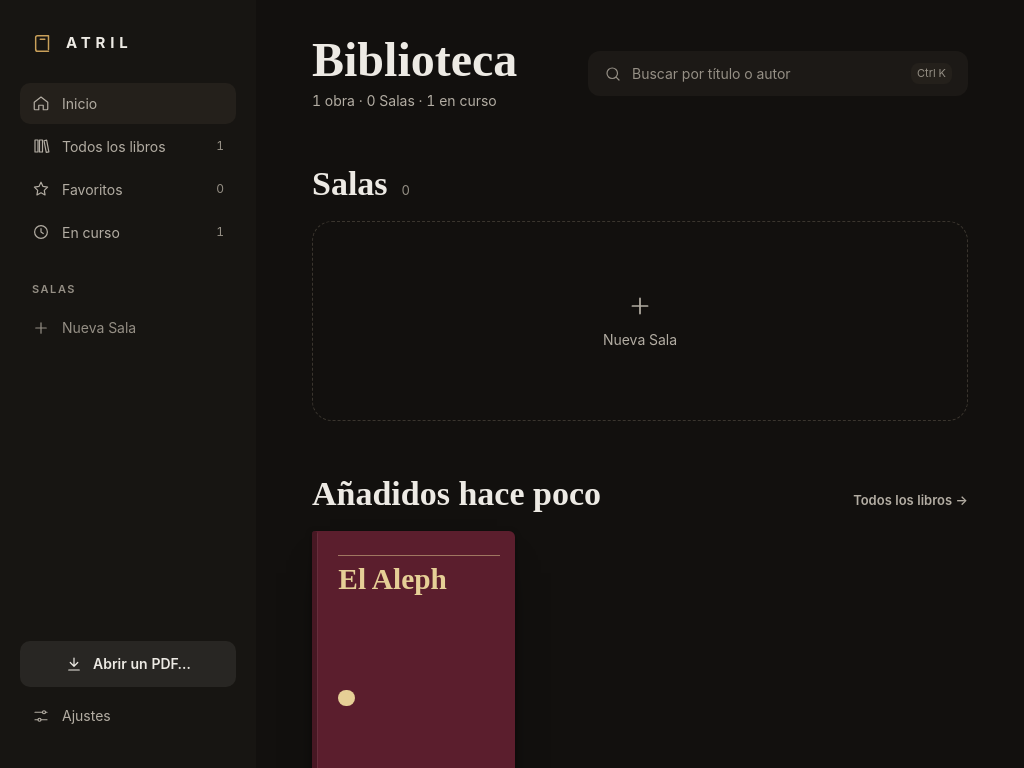
Scenario: lists with nothing to show › search without results names the search and clears it
The image size is (1024, 768).
Type "zzz" into the search field named "Buscar en la biblioteca".
click(766, 74); type("zzz")  # box [632, 63, 901, 84]
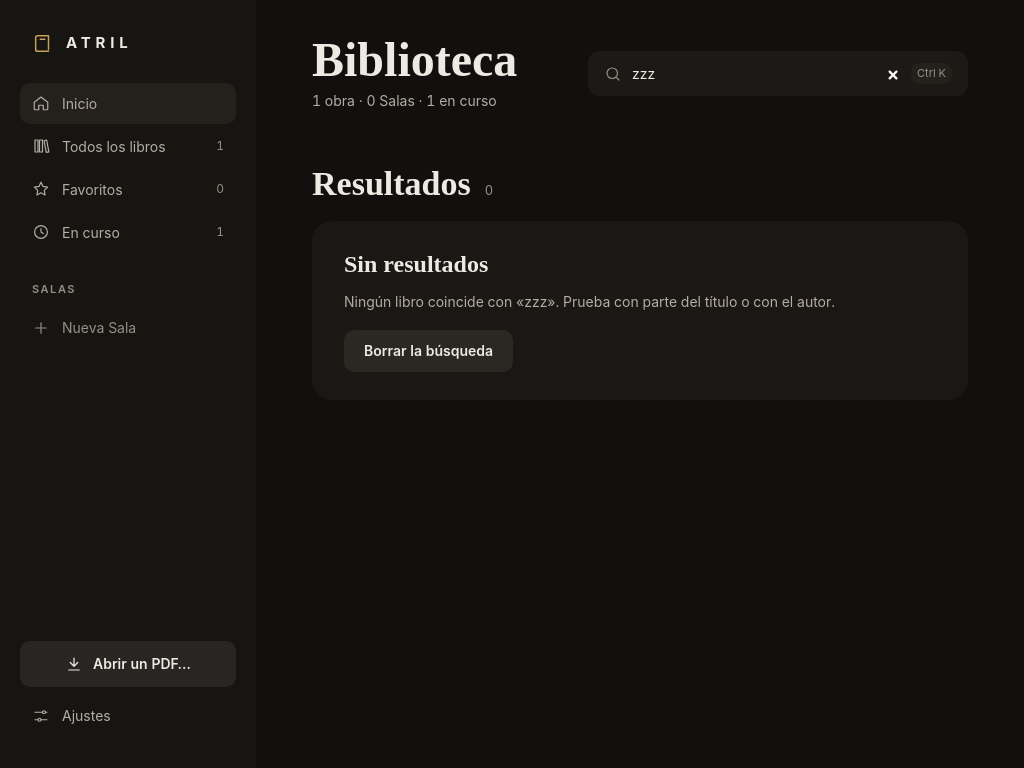
Expected: the text "Ningún libro coincide con «zzz»" is shown, [344, 293, 835, 310]
Click the button "Borrar la búsqueda".
click(429, 351)  # box [344, 330, 513, 372]
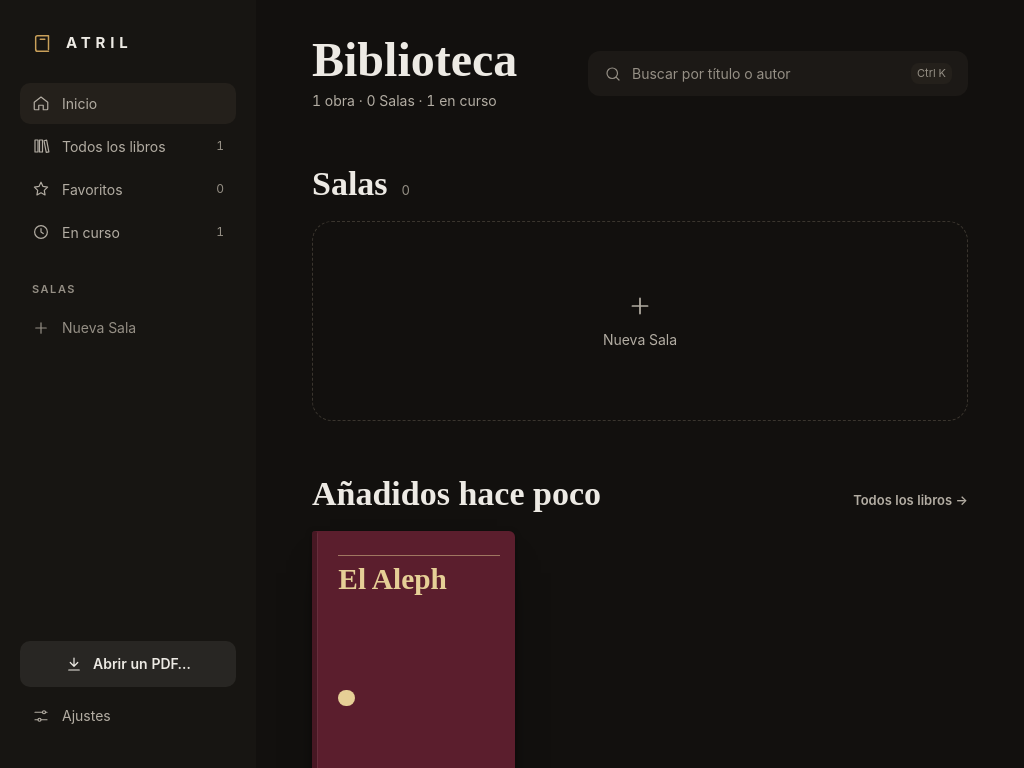
Expected: the text "Ningún libro coincide" is gone
Expected: the search field named "Buscar en la biblioteca" is empty, [632, 63, 901, 84]
